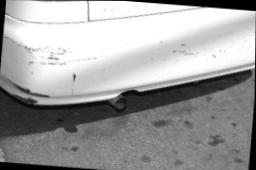Bumper: (1, 26, 93, 110)
